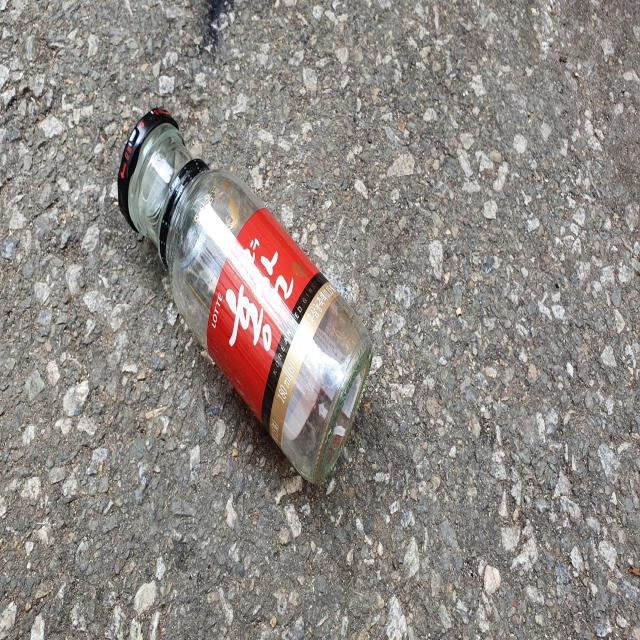glass: (117, 106, 373, 483)
